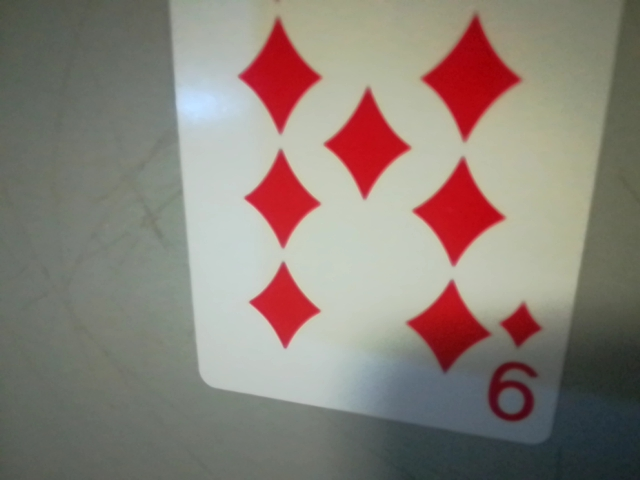fk 9: (480, 291, 560, 433)
